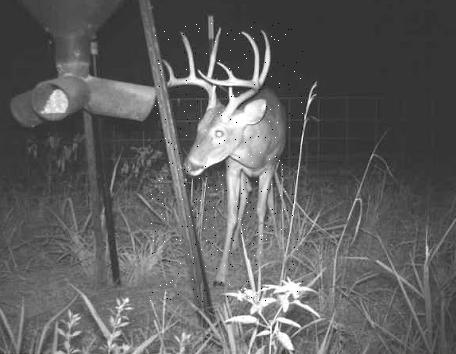Deer: (150, 22, 303, 302)
